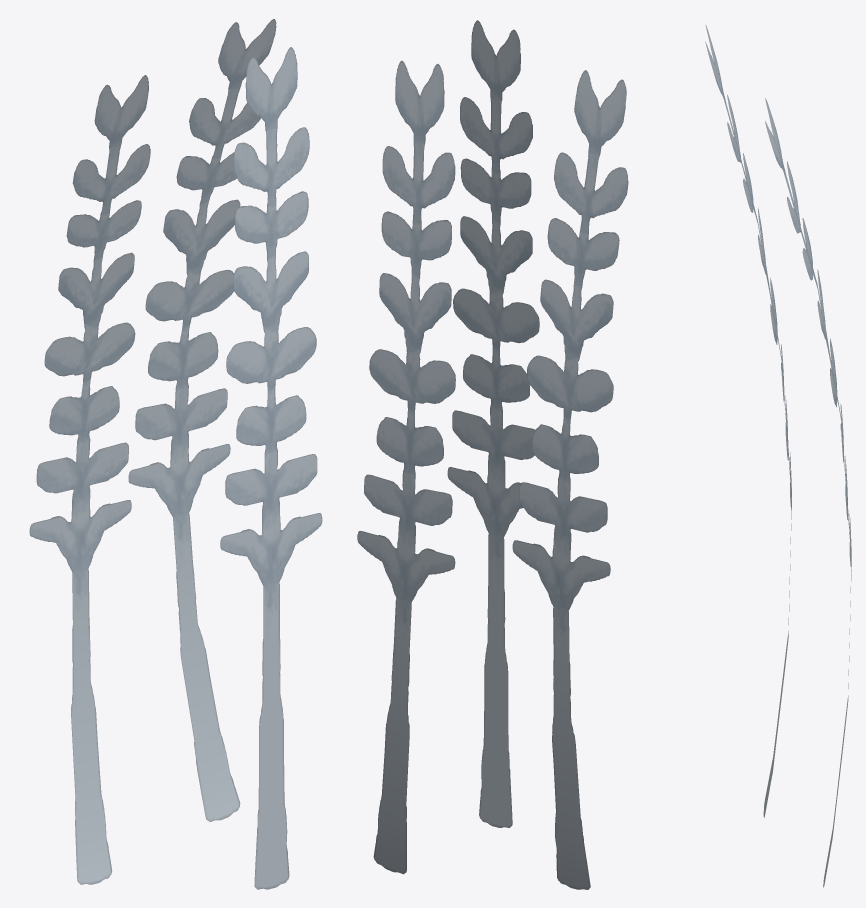
Rendered from l blue ferns.fbx.
3 renders of one model, left to right at view 1: azimuth 30°, elevation 25°; view 2: azimuth 150°, elevation 25°; view 3: azimuth 270°, elevation 25°, orthographic. The views are drawn at different scales.
Visible parts, largest first — view 1: l_blue_fern1, l_blue_fern2, l_blue_fern3; view 2: l_blue_fern2, l_blue_fern3, l_blue_fern1; view 3: l_blue_fern3, l_blue_fern2.
Part boxes in pixels (x1,y1,x2,y2): l_blue_fern1: (220, 47, 322, 889); l_blue_fern2: (29, 75, 150, 884); l_blue_fern3: (128, 19, 276, 821); l_blue_fern2: (512, 70, 628, 889); l_blue_fern3: (357, 60, 455, 874); l_blue_fern1: (447, 20, 539, 827); l_blue_fern3: (765, 98, 851, 887); l_blue_fern2: (705, 25, 791, 817).
Bounding box in the file's own units: 3.28 × 10.03 × 2.02.
